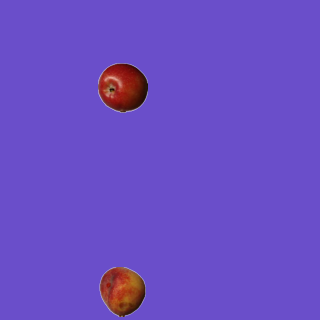Apple Braeburn: (97, 62, 147, 112)
Peach: (97, 266, 147, 316)
